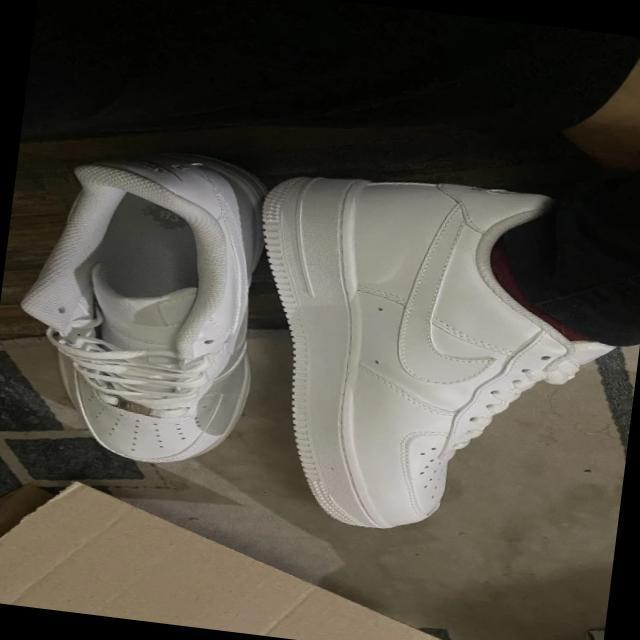nike original air force: (227, 157, 640, 558), (4, 135, 296, 479)
